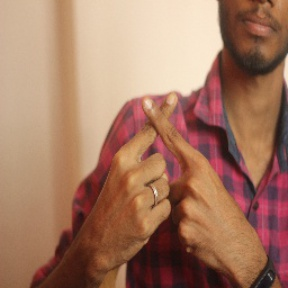X: (104, 83, 223, 194)
